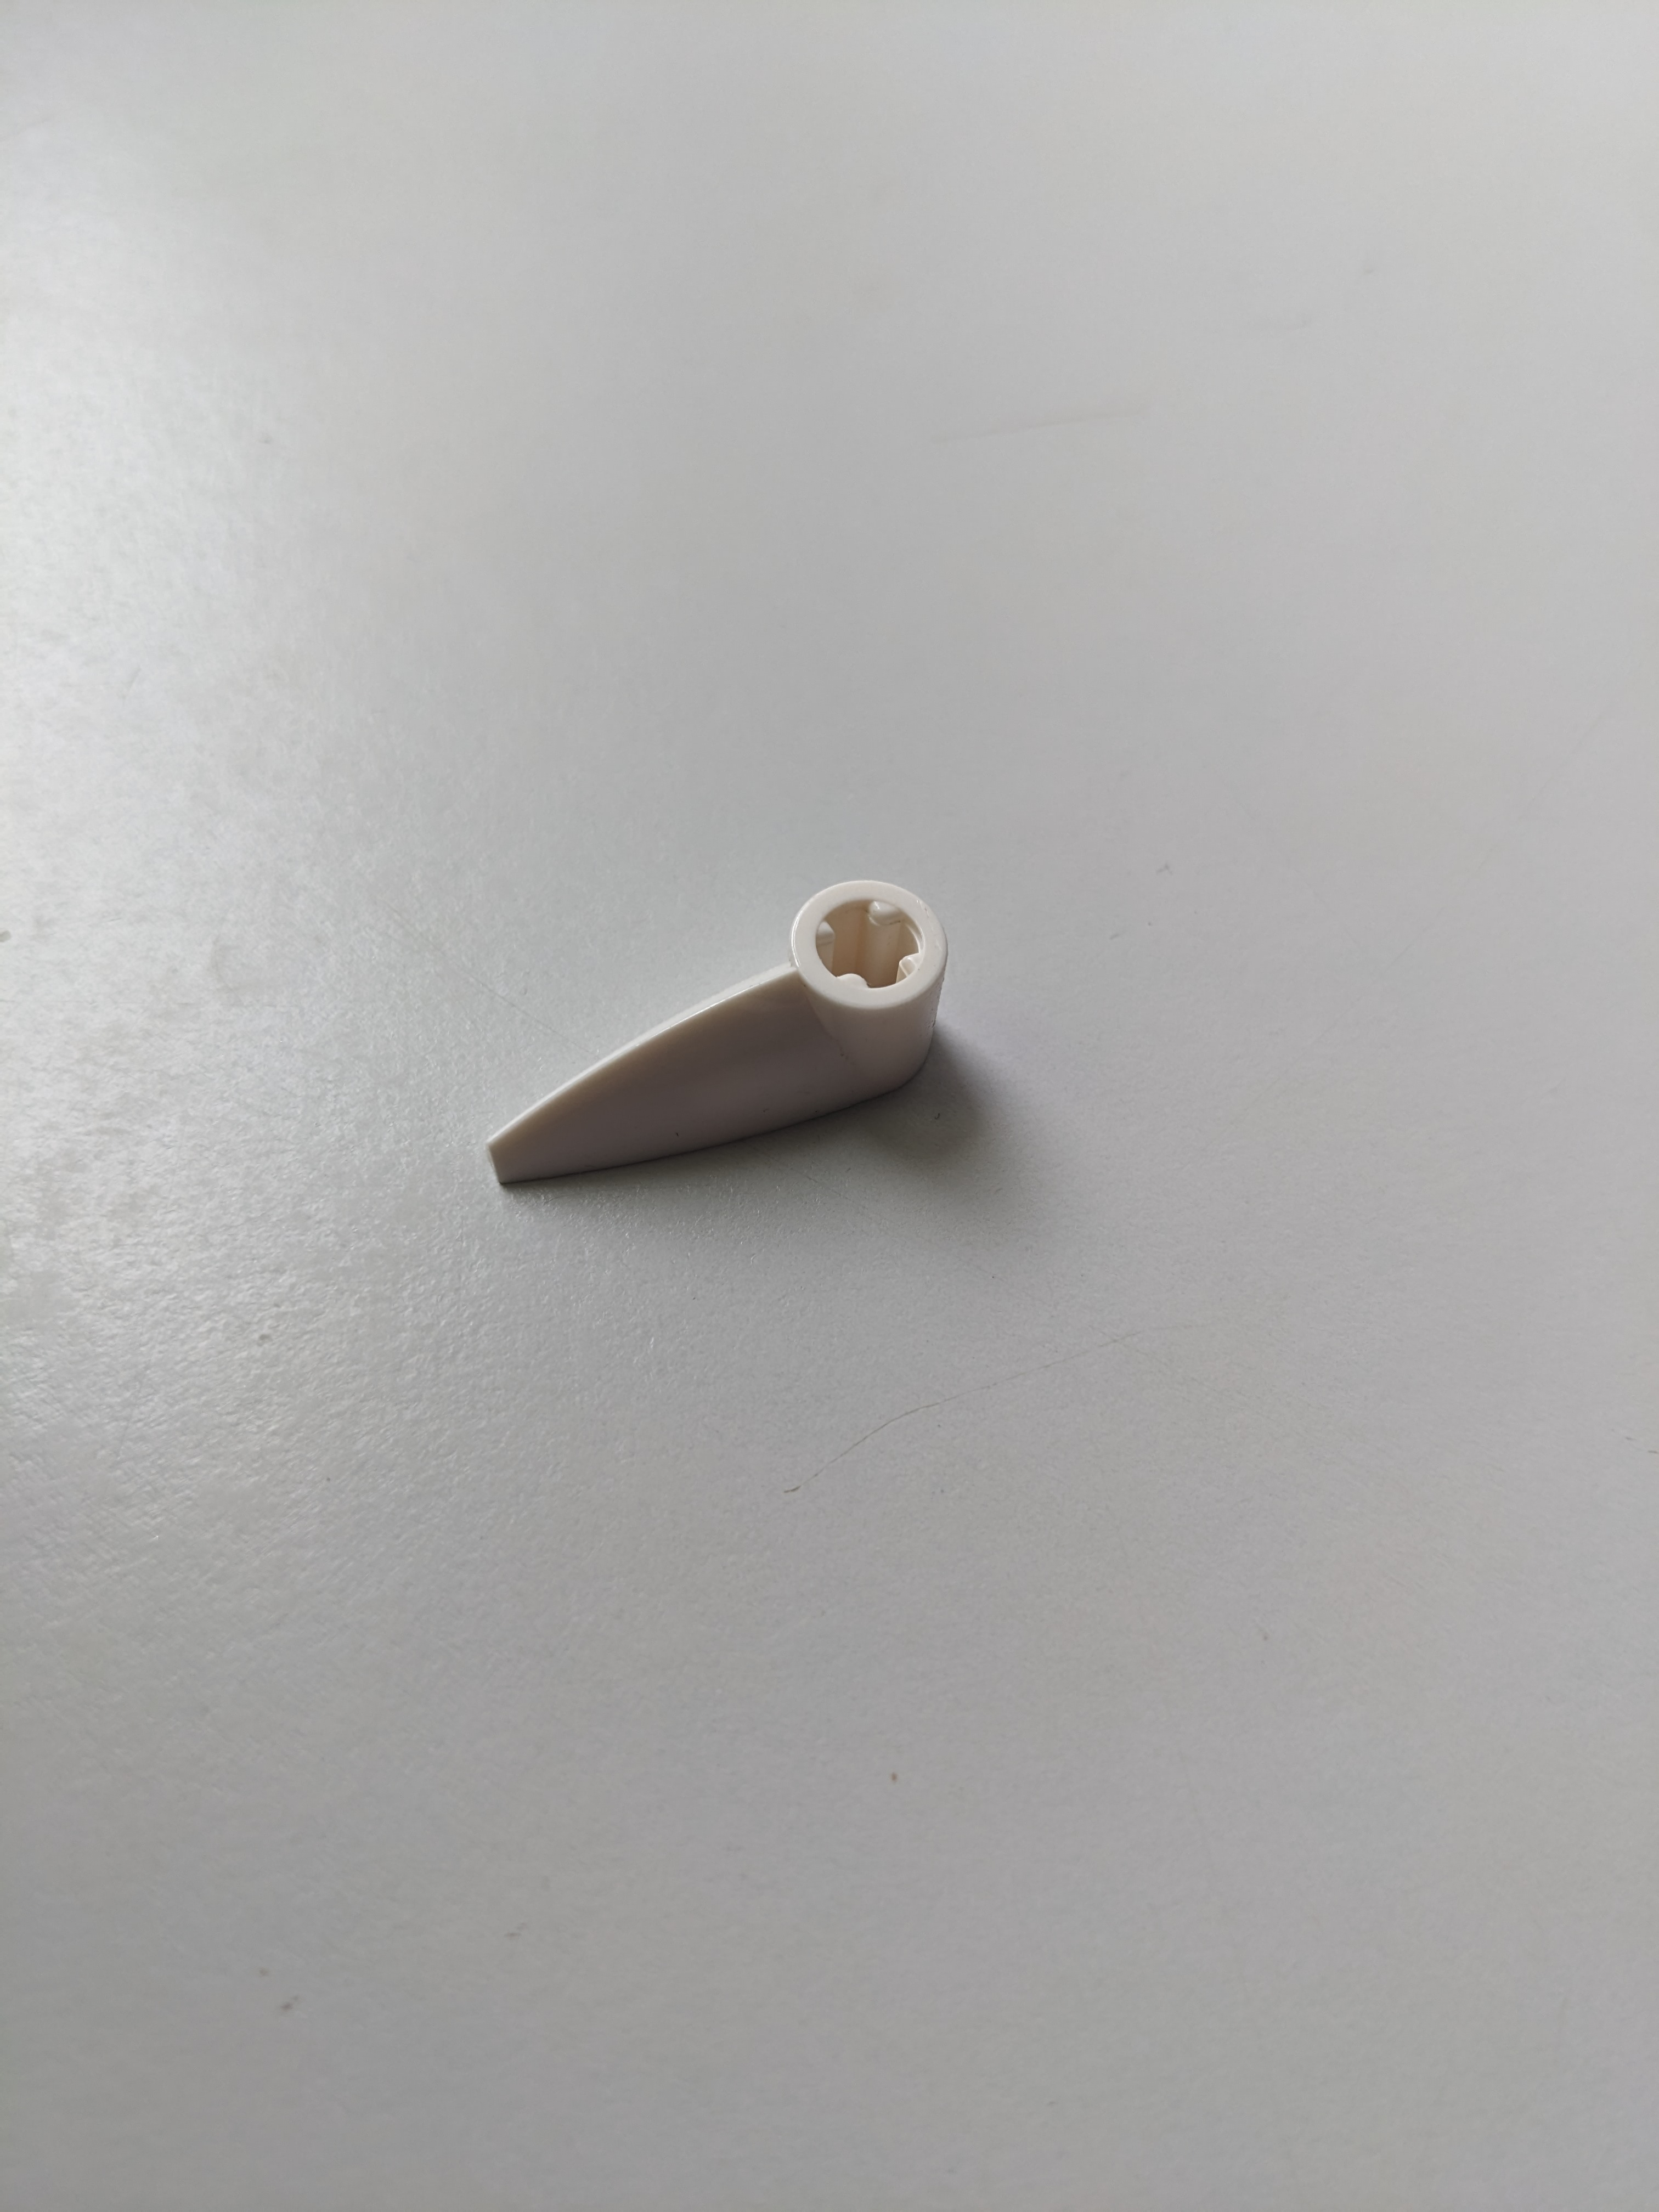Kappe: (465, 869, 964, 1212)
